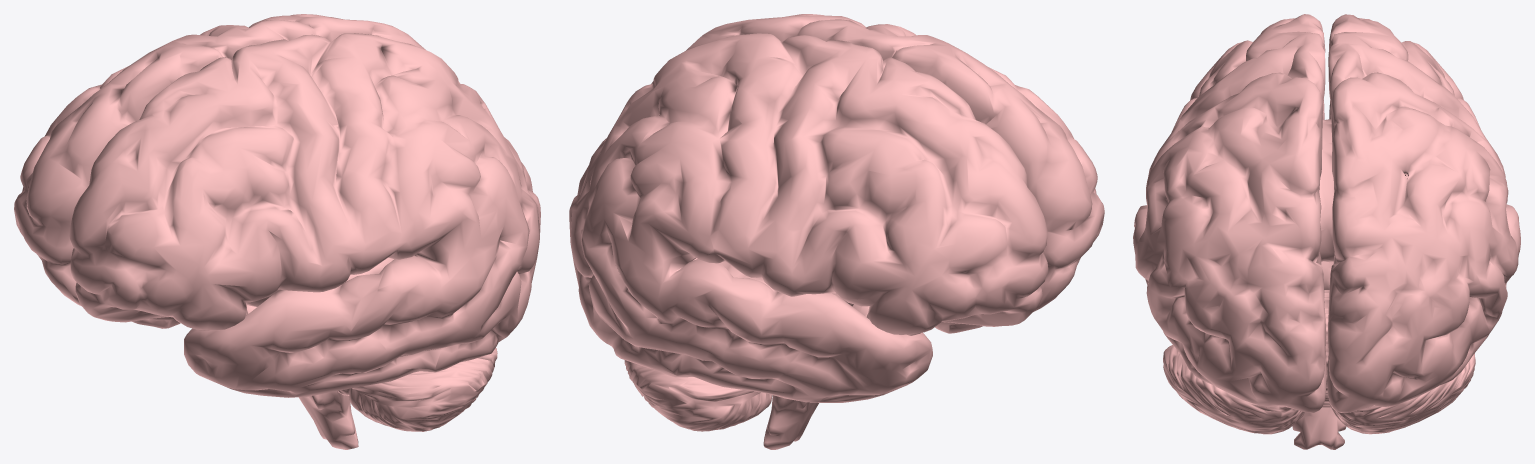
The model's file is brain2.obj.
3 views of the same model, side by side, from view 1: azimuth 30°, elevation 25°; view 2: azimuth 150°, elevation 25°; view 3: azimuth 270°, elevation 25° (orthographic). The views are drawn at different scales.
Visible parts, largest first — view 1: default; view 2: default; view 3: default.
Boxes of the visible parts, <box> form: default: <box>14,14,540,449</box>; default: <box>569,14,1104,449</box>; default: <box>1133,14,1520,449</box>.
Bounding box in the file's own units: 1424 × 1247 × 1176.
